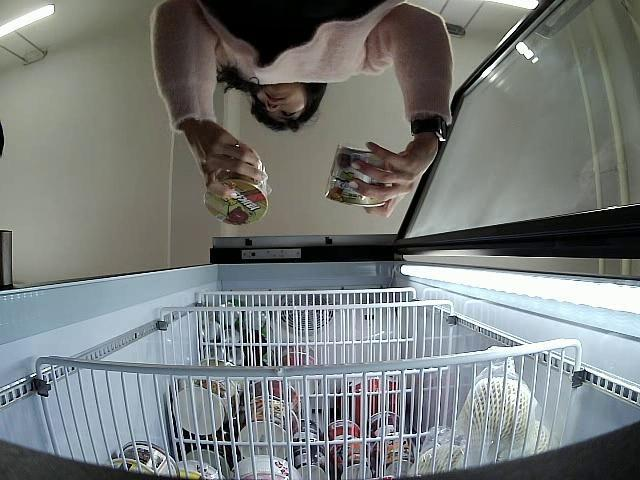04_chapagetti_S: (324, 146, 386, 206), (206, 174, 270, 227)
